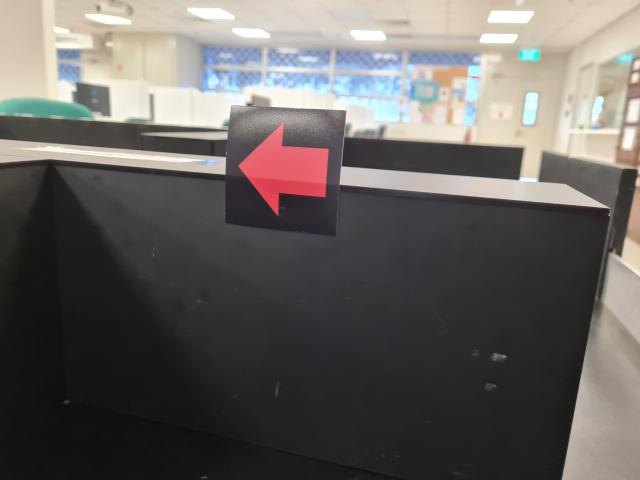left: (225, 105, 348, 236)
